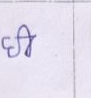i_matra: (19, 24, 34, 57)
